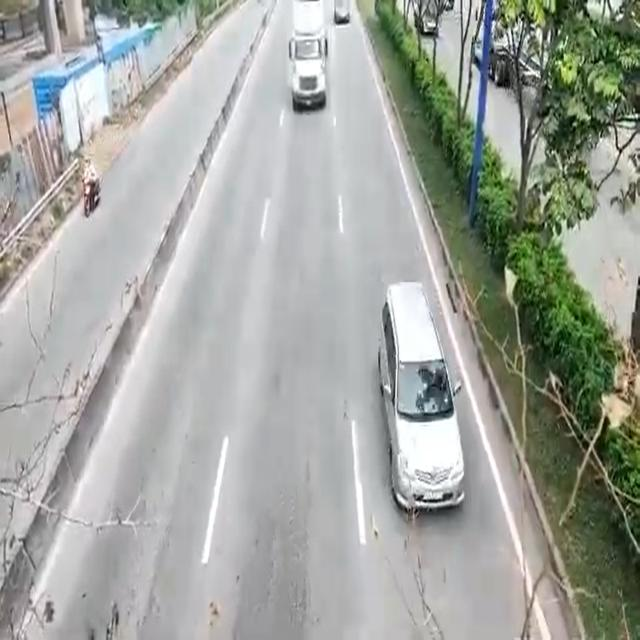car: (375, 287, 465, 509)
motor: (82, 157, 100, 215)
truck: (292, 1, 329, 107)
